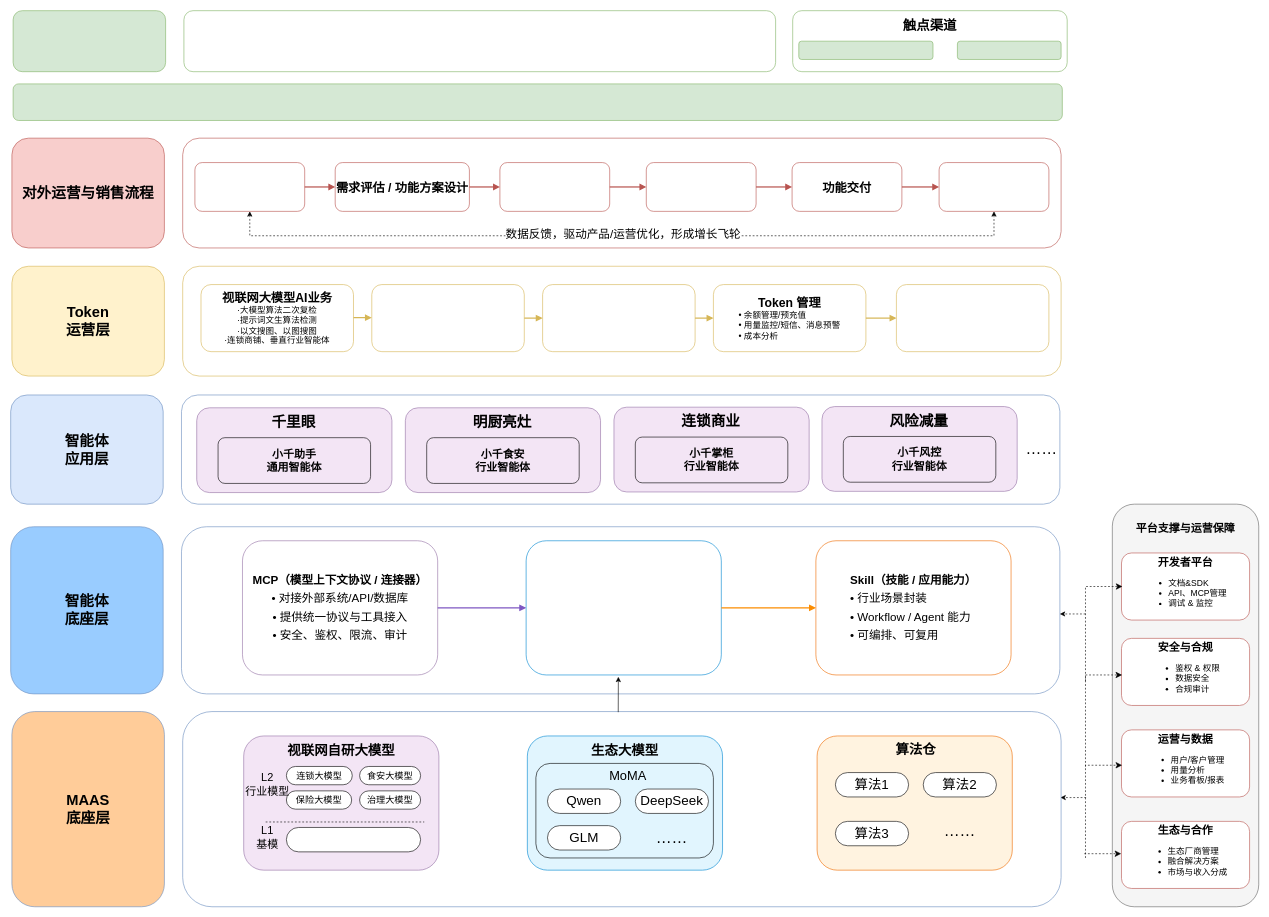
Image size: 1269x917. Some labels were removed from this diagram. The shapes that lost their labels are listed below. From the top down, each one's centre as x and y in pixels, then its label:
At (x=89, y=41): "用户/客户触点".
At (x=479, y=41): "企业客户（To B）开发者（Dev）合作伙伴 / ISV 行业应用客户".
At (x=865, y=50): "移动千里眼APP/WEB".
At (x=1009, y=50): "视联网能力开放平台".
At (x=537, y=101): "价值输出：客户降本增效 + 平台规模化运营 + 生态增长".
At (x=249, y=186): "售前获客与触达".
At (x=554, y=186): "POC 测试验证".
At (x=701, y=186): "签约与套餐开通".
At (x=993, y=186): "运营增长".
At (x=447, y=318): "Token 产生 / 消耗 调用模型、Skill、MCP 产生 Token".
At (x=618, y=318): "计费策略 • 按量计费 • Token plan （包月 / 包年计费） • 阶梯定价/资源包".
At (x=972, y=318): "权益与配额 • 不同套餐对应模型/Skill • 访问权限与配额 • QoS/并发/Token速率限流".
At (x=623, y=607): "大模型（LLM）调用 • 推理 / 生成 / 理解能力 • 多模态能力 • 模型服务与编排".
At (x=353, y=839): "视联网监管大模型".
